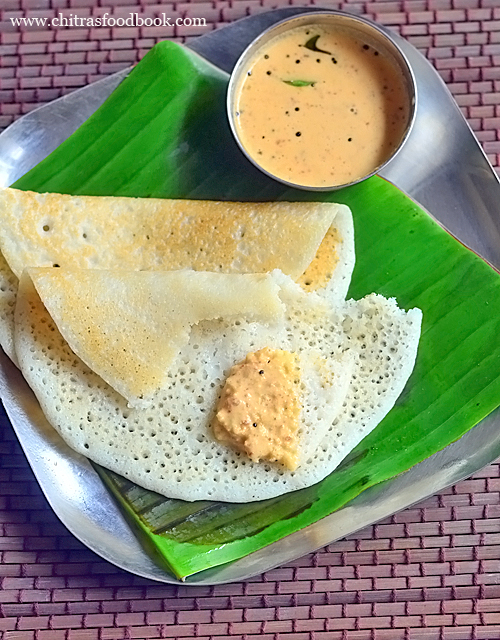dosa: (3, 190, 430, 507)
